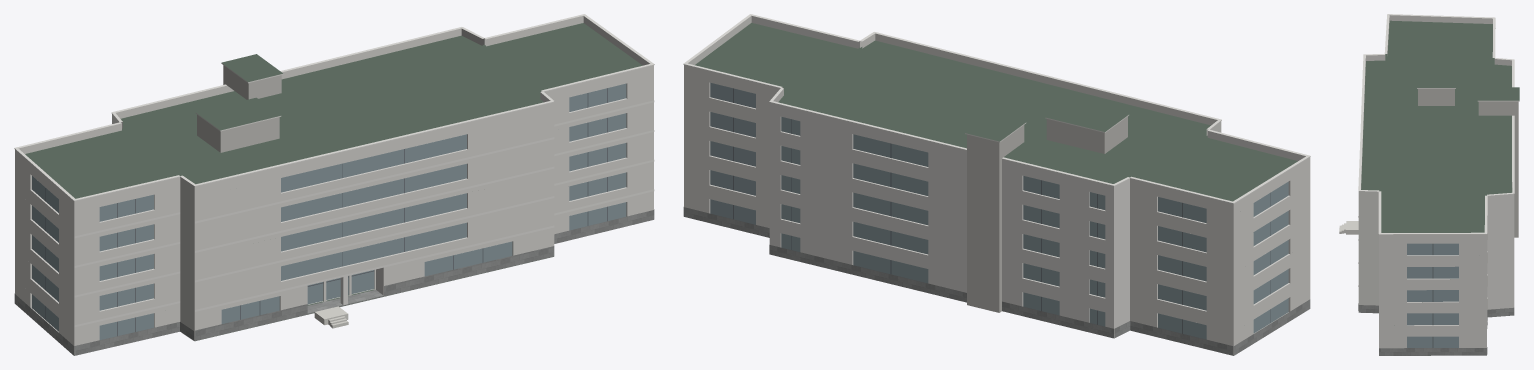
3 renders of one model, left to right at view 1: azimuth 30°, elevation 25°; view 2: azimuth 150°, elevation 25°; view 3: azimuth 270°, elevation 25°, orthographic. The views are drawn at different scales.
Parts seen in each view (by area): view 1: b56__wall, b56__roof, b56__glass, b56__trim, b56__parapet, b56__base, b56__wall2, b56__frame, b56__entranceStair; view 2: b56__wall, b56__roof, b56__glass, b56__parapet, b56__wall2, b56__base, b56__trim, b56__frame; view 3: b56__roof, b56__wall, b56__glass, b56__trim, b56__parapet, b56__wall2, b56__base, b56__entranceStair.
Part boxes in pixels (x1,y1,x2,y2): b56__wall: [15, 71, 653, 355]; b56__roof: [25, 23, 642, 341]; b56__glass: [32, 83, 626, 339]; b56__trim: [14, 14, 654, 326]; b56__parapet: [15, 16, 653, 207]; b56__base: [14, 209, 654, 355]; b56__wall2: [197, 65, 281, 152]; b56__frame: [45, 88, 607, 336]; b56__entranceStair: [314, 306, 348, 328]; b56__wall: [684, 71, 1310, 355]; b56__roof: [695, 23, 1297, 201]; b56__glass: [710, 82, 1288, 339]; b56__parapet: [684, 15, 1310, 209]; b56__wall2: [967, 116, 1127, 312]; b56__base: [683, 207, 1310, 355]; b56__trim: [683, 14, 1310, 203]; b56__frame: [733, 88, 1270, 333]; b56__roof: [1361, 20, 1519, 355]; b56__wall: [1358, 196, 1514, 348]; b56__glass: [1407, 243, 1458, 347]; b56__trim: [1358, 14, 1519, 286]; b56__parapet: [1358, 15, 1514, 239]; b56__wall2: [1418, 89, 1518, 237]; b56__base: [1358, 303, 1514, 355]; b56__entranceStair: [1339, 221, 1358, 234].
Size of the model in its own units: 73.14 by 21.99 by 25.31.
11 materials, 1 textured.
